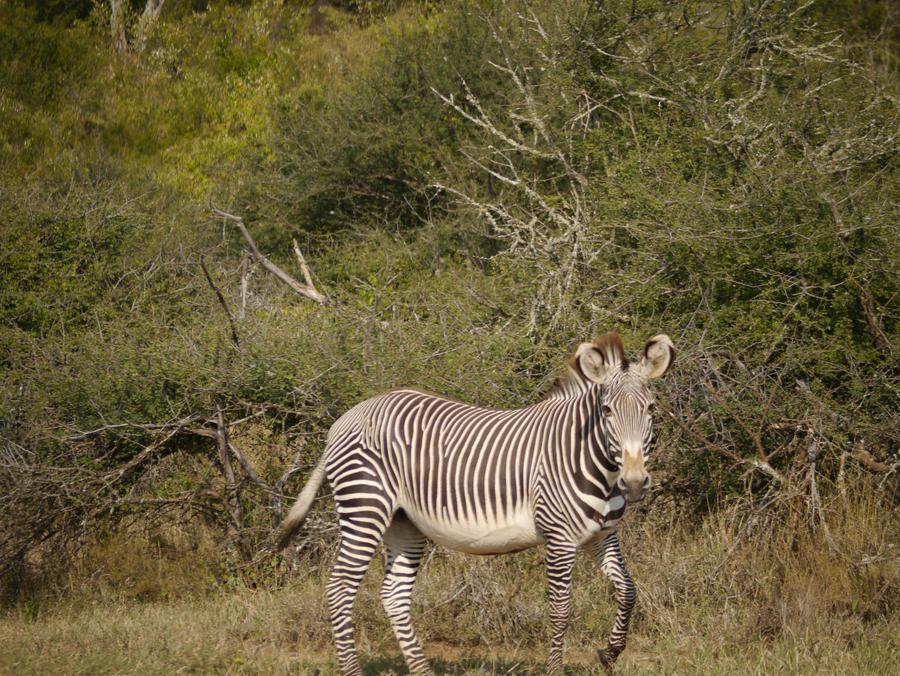zebra_grevys: (324, 366, 597, 540)
